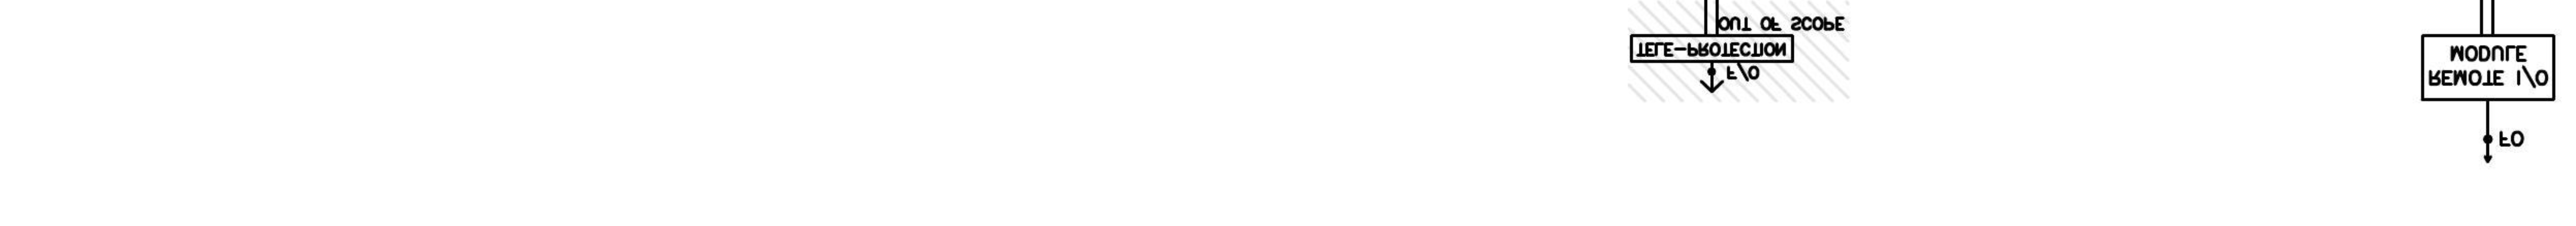remote_io_module: (2420, 34, 2556, 102)
tele_protection: (1630, 33, 1796, 64)
